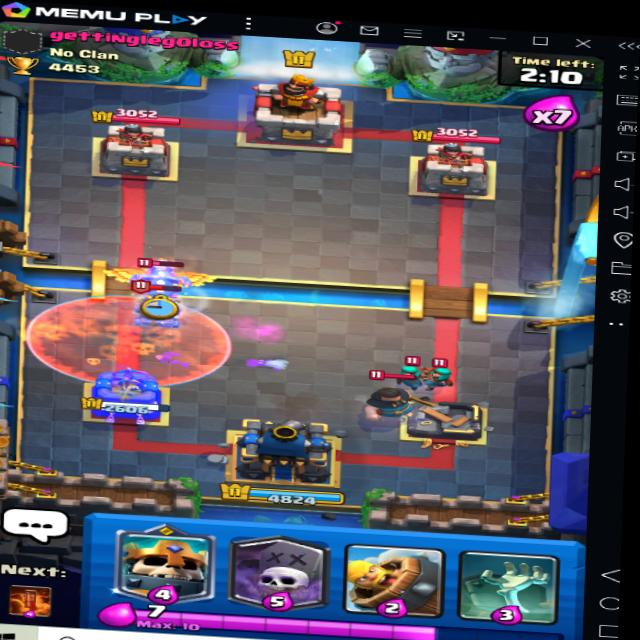cannon-cart: (136, 281, 187, 330)
electro-dragon: (129, 253, 192, 298)
rascal-boy: (361, 368, 423, 419)
rascal-girl: (390, 353, 434, 386), (424, 355, 463, 389)
